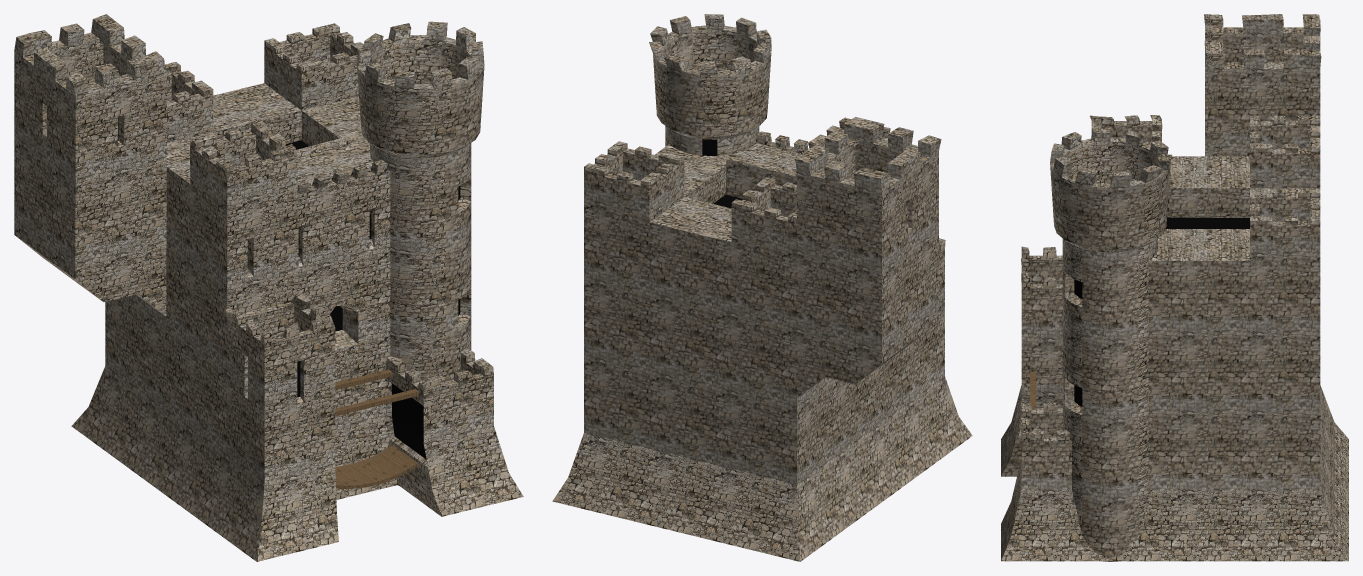
The model's file is CastleNoROCKS.FBX.
3 renders of one model, left to right at view 1: azimuth 30°, elevation 25°; view 2: azimuth 150°, elevation 25°; view 3: azimuth 270°, elevation 25°, orthographic. The views are drawn at different scales.
Parts seen in each view (by area): view 1: Cylinder006; view 2: Cylinder006; view 3: Cylinder006.
Part boxes in pixels (box(x1,y1,x2,y2)): Cylinder006: box(14, 14, 523, 561); Cylinder006: box(552, 14, 972, 561); Cylinder006: box(1001, 14, 1348, 561).
Bounding box in the file's own units: 197 × 224 × 179.
3 materials, 2 textured.
